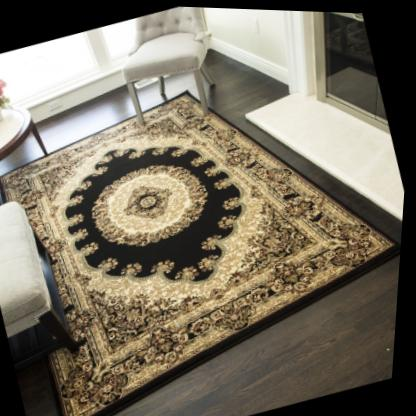Carpet: (1, 88, 404, 416)
